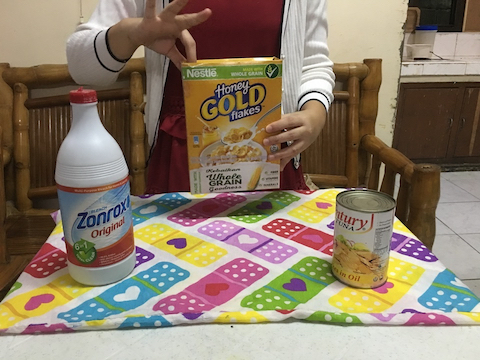bottle: (52, 87, 138, 289)
box: (178, 51, 291, 199)
can: (326, 183, 400, 289)
grab: (261, 106, 316, 171)
